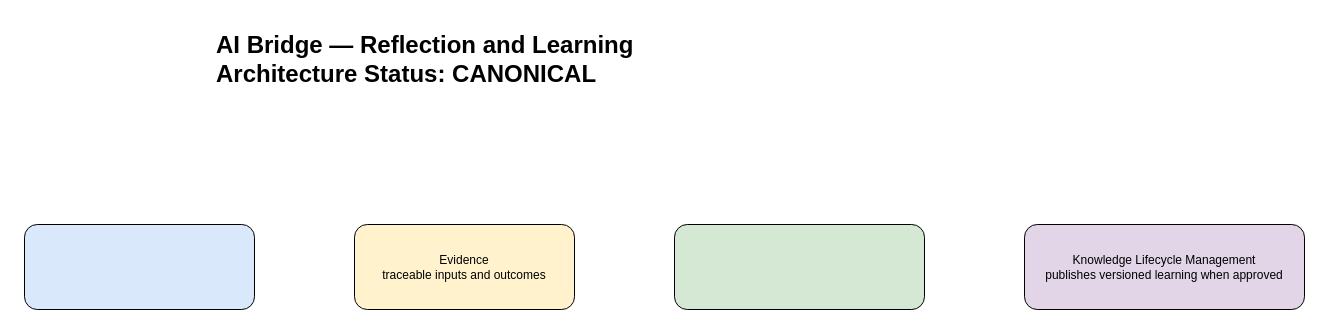
Some shapes in this 1322 by 327 pixel diagram are drawn without their labels. Here are the shapes that lost their labels. From the top down, the centre of each, then its label:
At [139,267]: "Execution / Mission Outcome governed operational facts".
At [799,267]: "Reflection bounded analysis; no direct runtime control".
